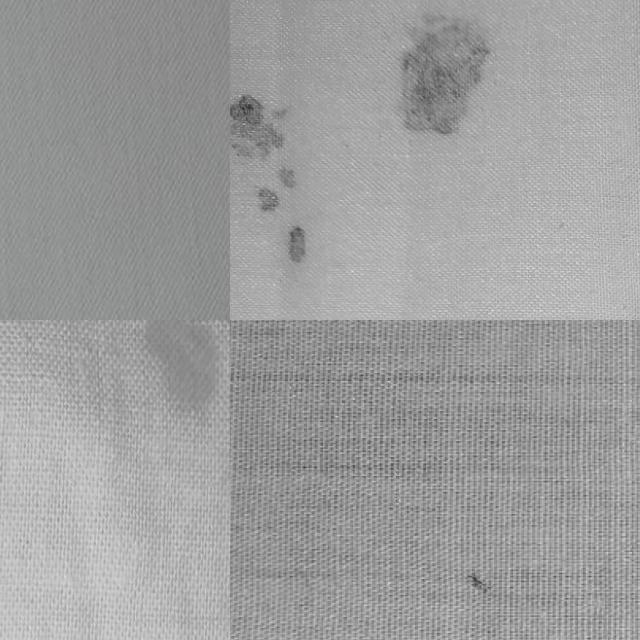Hole: (96, 320, 230, 487), (384, 524, 572, 640), (381, 0, 503, 150), (230, 46, 306, 216), (276, 222, 318, 277)
